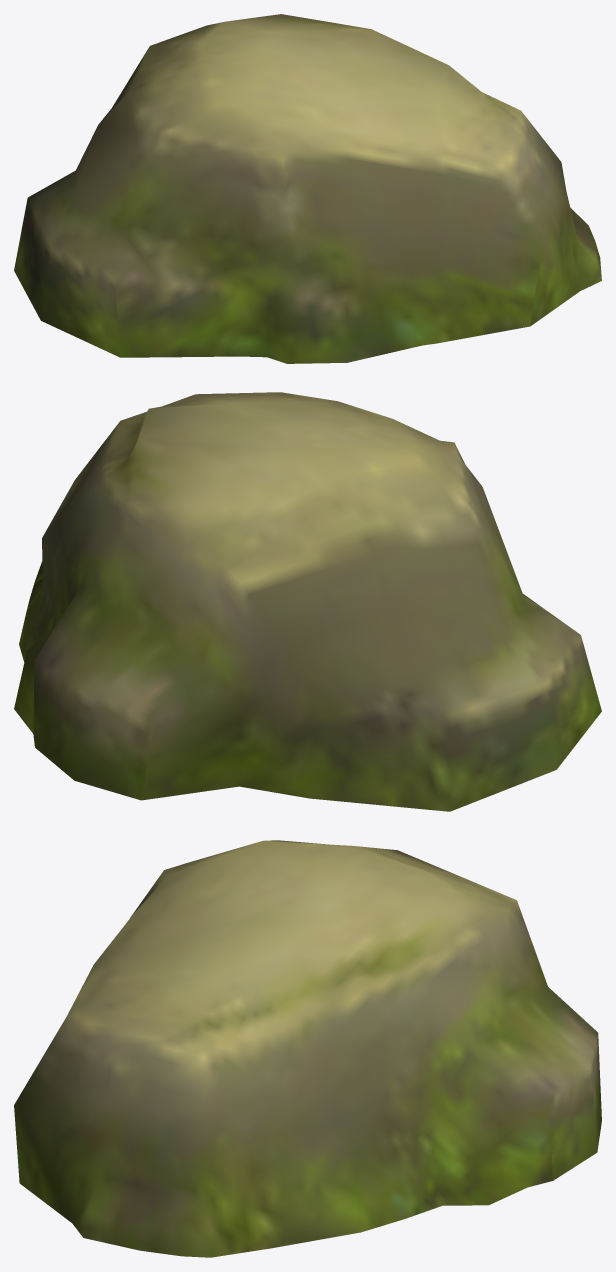
File: liemo_shitou_01 (4).fbx
The picture shows the model from 3 angles, top to bottom: view 1: azimuth 30°, elevation 25°; view 2: azimuth 150°, elevation 25°; view 3: azimuth 270°, elevation 25°; orthographic projection. The views are drawn at different scales.
Visible parts, largest first — view 1: liemo_shitou_01 (4); view 2: liemo_shitou_01 (4); view 3: liemo_shitou_01 (4).
Boxes of the visible parts, box(x1,y1,x2,y2) form: liemo_shitou_01 (4): box(14, 14, 601, 363); liemo_shitou_01 (4): box(14, 392, 601, 811); liemo_shitou_01 (4): box(14, 840, 601, 1257).
Size of the model in its own units: 0.2147 by 0.0894 by 0.1936.
